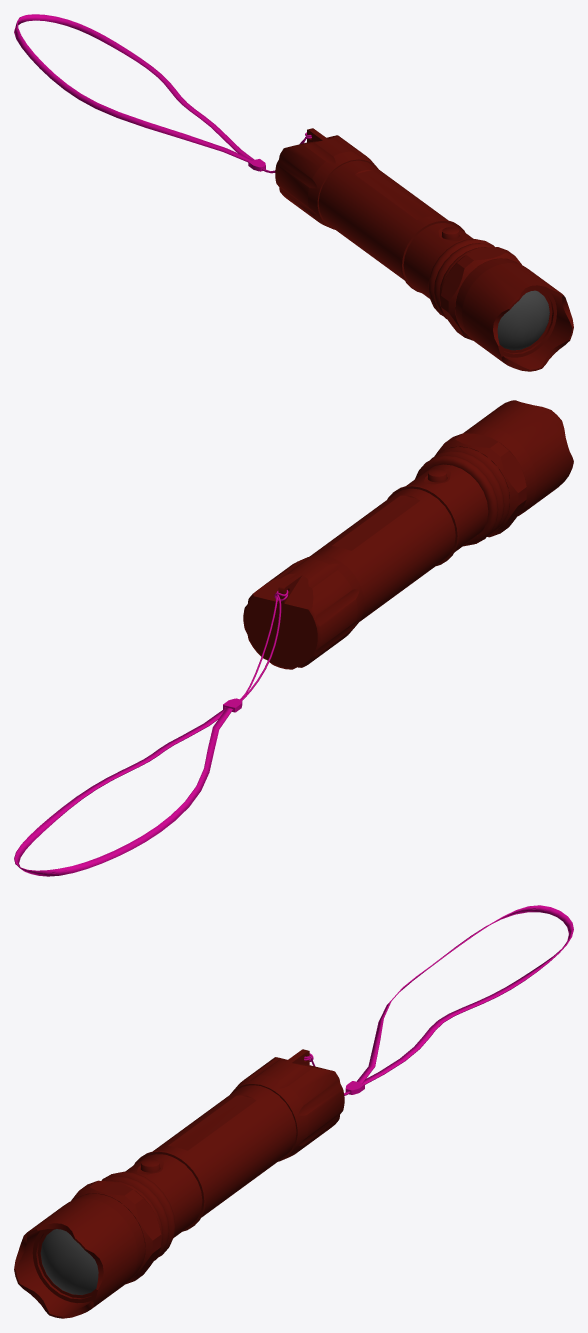
3 renders of one model, top to bottom at view 1: azimuth 30°, elevation 25°; view 2: azimuth 150°, elevation 25°; view 3: azimuth 330°, elevation 25°, orthographic. The views are drawn at different scales.
Visible parts, largest first — view 1: p7_lo, p1_lo, p10_lo, p13_lo, p3_lo, p5_lo, p6_lo, p2_lo; view 2: p7_lo, p10_lo, p1_lo, p13_lo, p6_lo, p5_lo, p12_lo; view 3: p7_lo, p1_lo, p10_lo, p3_lo, p13_lo, p5_lo, p6_lo, p2_lo, p9_lo.
Part boxes in pixels (x1,y1,x2,y2): p7_lo: (318, 160, 473, 298); p1_lo: (455, 258, 573, 371); p10_lo: (275, 128, 378, 229); p13_lo: (14, 14, 254, 162); p3_lo: (497, 290, 549, 350); p5_lo: (441, 247, 521, 340); p6_lo: (428, 239, 494, 318); p2_lo: (499, 290, 556, 357); p7_lo: (310, 464, 488, 621); p10_lo: (243, 555, 364, 669); p1_lo: (463, 400, 573, 516); p13_lo: (14, 707, 233, 876); p6_lo: (415, 446, 509, 546); p5_lo: (434, 433, 526, 537); p12_lo: (240, 590, 288, 700); p7_lo: (125, 1085, 296, 1237); p1_lo: (14, 1193, 145, 1318); p10_lo: (230, 1049, 344, 1161); p3_lo: (40, 1229, 98, 1294); p13_lo: (357, 905, 573, 1084); p5_lo: (71, 1180, 161, 1283); p6_lo: (101, 1171, 175, 1260); p2_lo: (32, 1228, 96, 1303); p9_lo: (134, 1150, 205, 1231).
Size of the model in its own units: 4.23 by 3.01 by 31.87.
